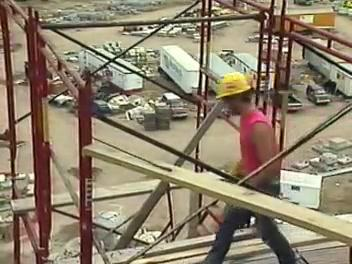no -hi-vis jacket: (236, 116, 284, 189)
